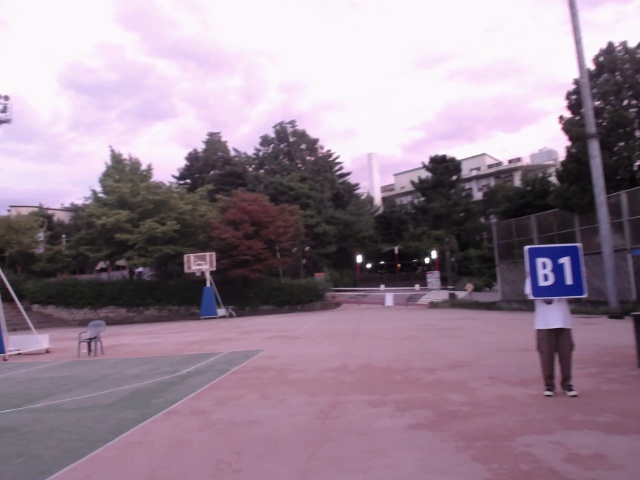delivery_b1: (527, 244, 585, 298)
